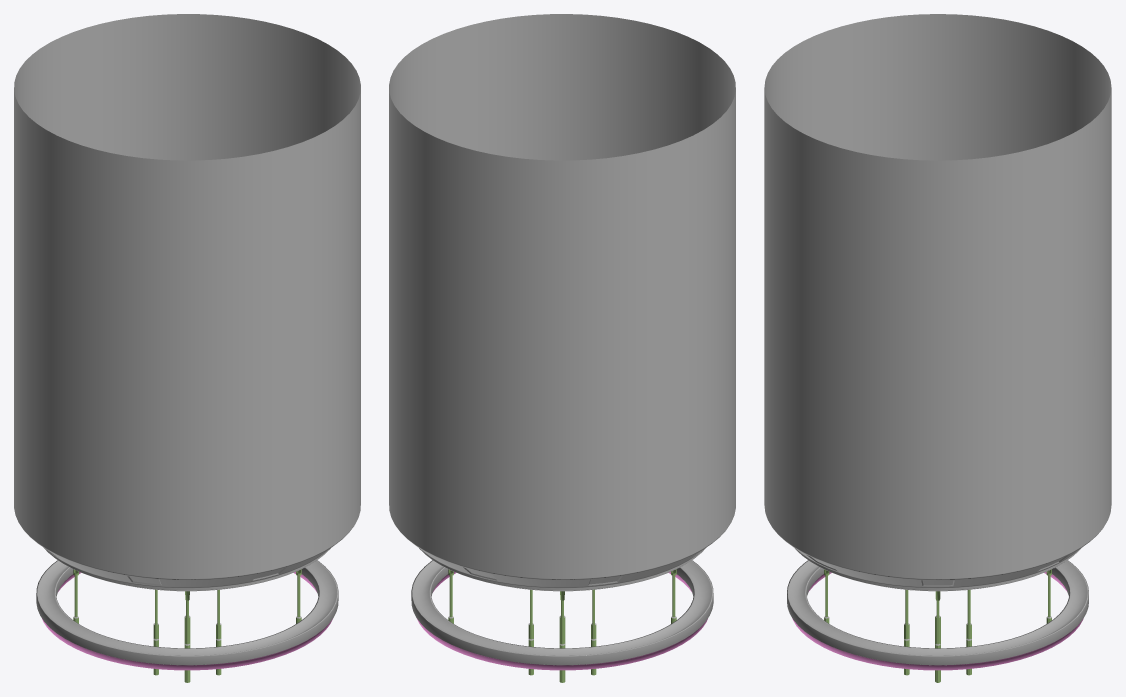
Rendered from ObservationRoomLightBase.fbx.
3 renders of one model, left to right at view 1: azimuth 30°, elevation 25°; view 2: azimuth 150°, elevation 25°; view 3: azimuth 270°, elevation 25°, orthographic.
Visible parts, largest first — view 1: ObservationRoomLightBase001; view 2: ObservationRoomLightBase001; view 3: ObservationRoomLightBase001.
Part boxes in pixels (<box>): ObservationRoomLightBase001: <box>14,14,360,682</box>; ObservationRoomLightBase001: <box>389,14,735,682</box>; ObservationRoomLightBase001: <box>764,14,1111,682</box>.
Size of the model in its own units: 605 by 1114 by 605.
